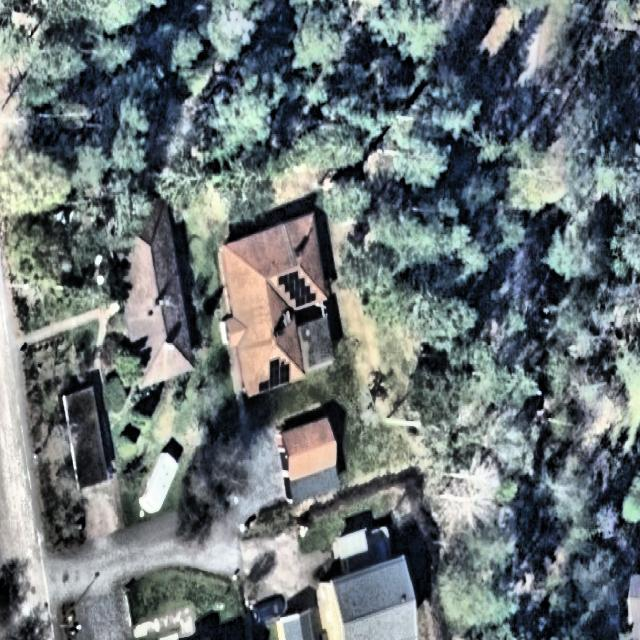roof_pv: (275, 268, 319, 312), (256, 352, 296, 397)
